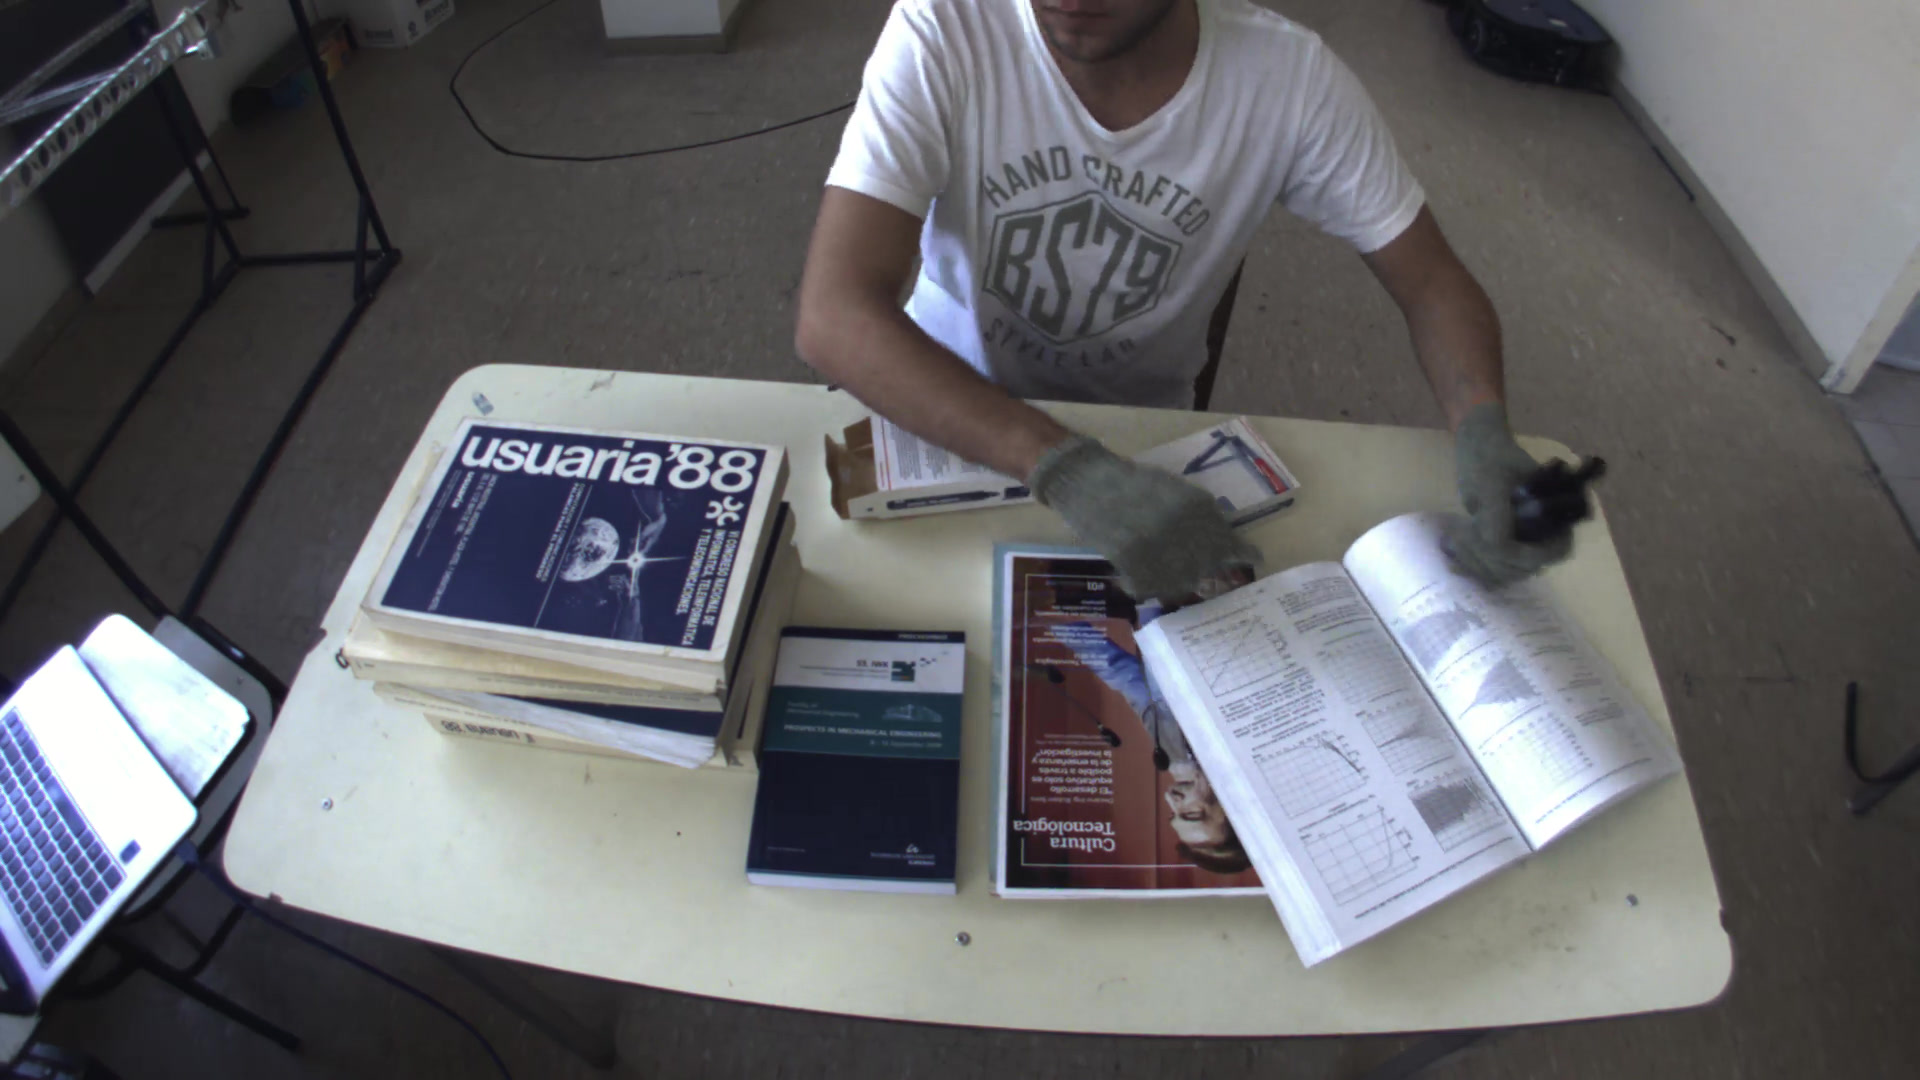hand: (1019, 436, 1266, 608), (1439, 392, 1600, 595)
